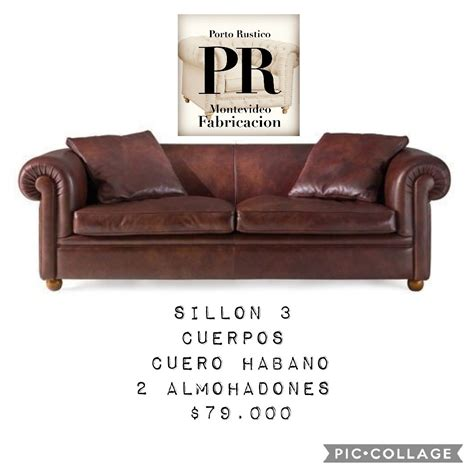cuero: (19, 129, 452, 281)
